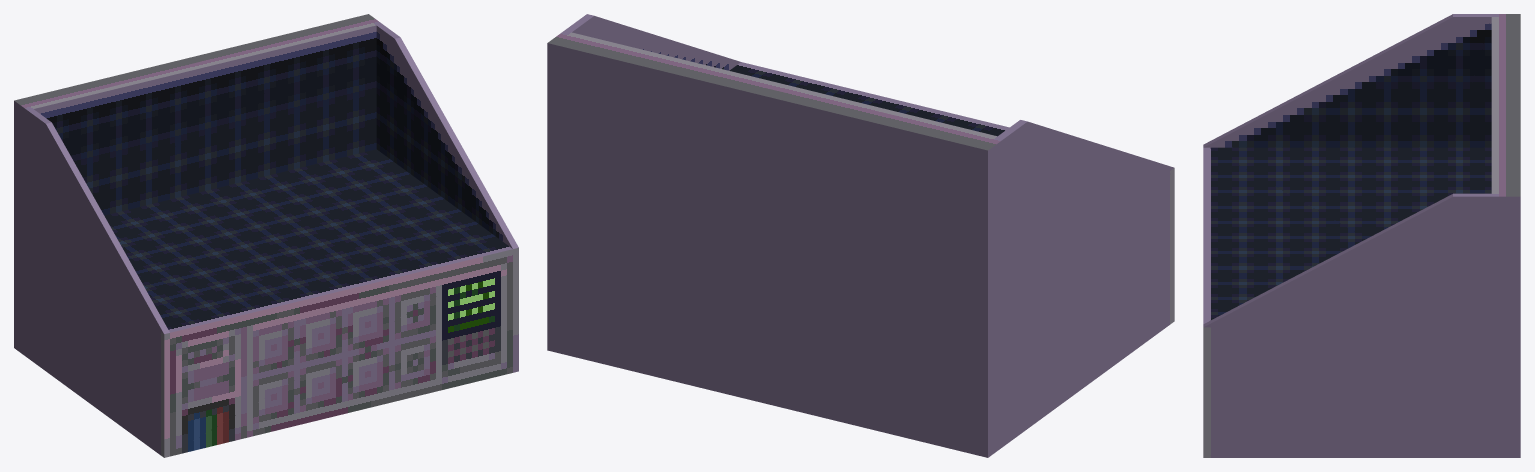
The model's file is map_housing.glb.
The picture shows the model from 3 angles, left to right: view 1: azimuth 30°, elevation 25°; view 2: azimuth 150°, elevation 25°; view 3: azimuth 270°, elevation 25°; orthographic projection. The views are drawn at different scales.
Parts seen in each view (by area): view 1: cube (×4), cuboid (×2); view 2: cube (×3), cuboid (×2); view 3: cube (×4), cuboid (×2).
Part boxes in pixels (x1=…): cube (×4): x1=14, y1=14, x2=518, y2=457; cuboid (×2): x1=46, y1=37, x2=518, y2=334; cube (×3): x1=547, y1=30, x2=1174, y2=457; cuboid (×2): x1=594, y1=16, x2=1173, y2=274; cube (×4): x1=1203, y1=14, x2=1520, y2=457; cuboid (×2): x1=1203, y1=14, x2=1452, y2=327.
Size of the model in its own units: 3.75 by 2.5 by 2.75.
Materials: 1 (1 with a texture image).
